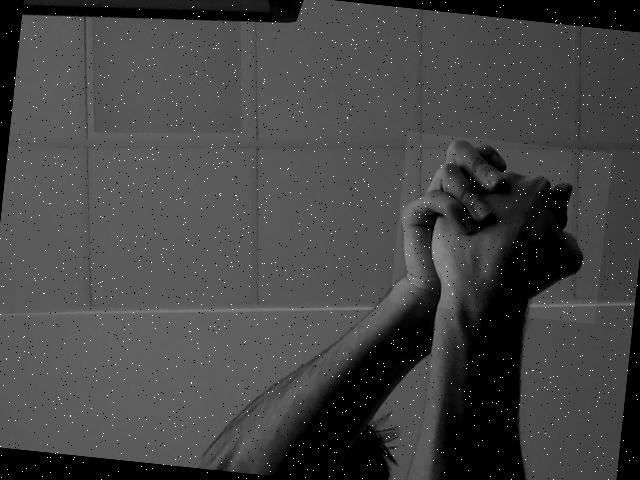friend: (390, 132, 612, 324)
